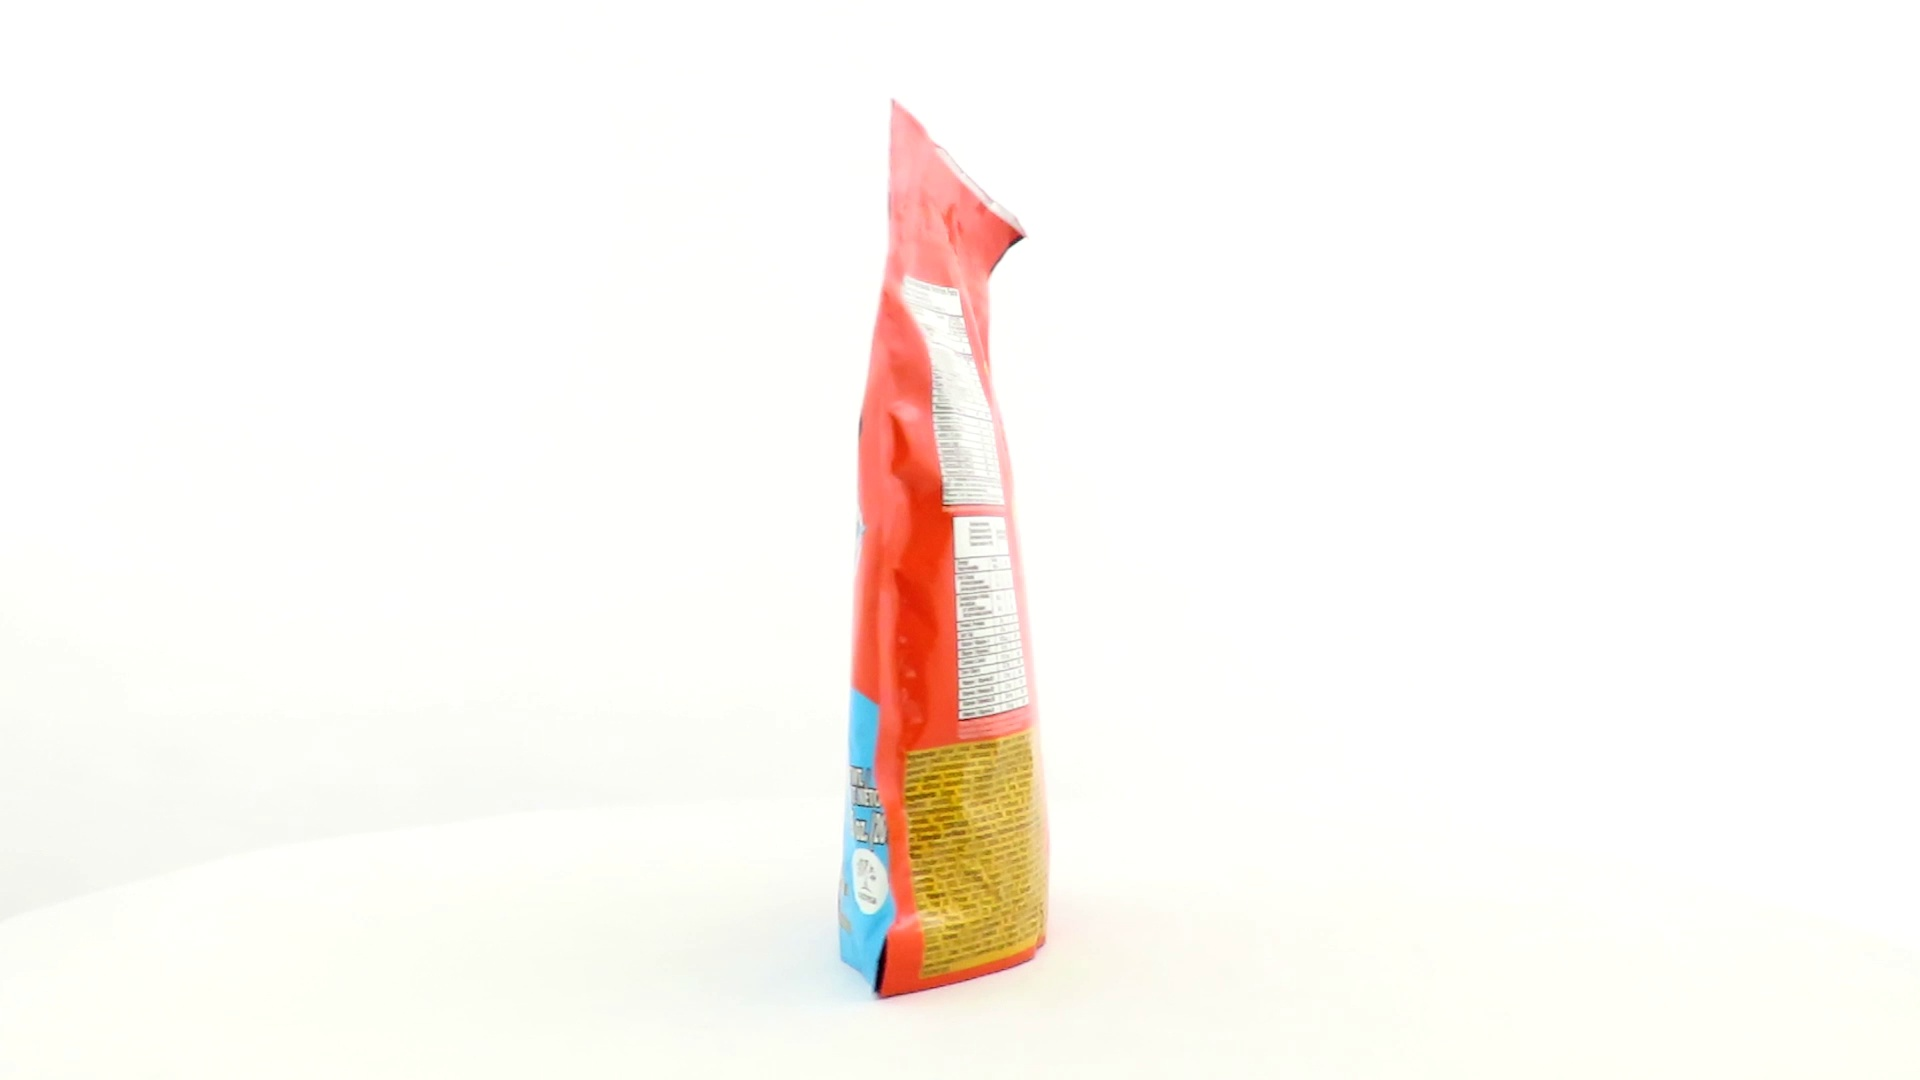COL0170104DYP20000: (843, 142, 1054, 1007)
